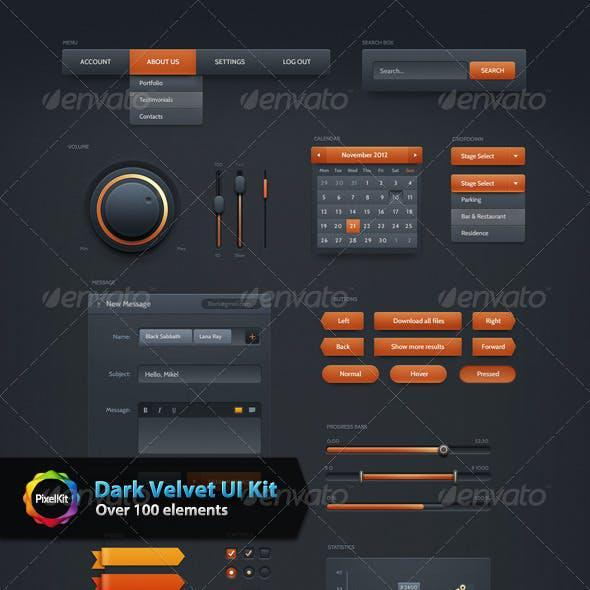button: (265, 50, 333, 79), (197, 49, 264, 75), (130, 50, 197, 75), (376, 312, 462, 331), (65, 50, 130, 75), (452, 225, 525, 245), (373, 339, 462, 355), (329, 147, 410, 164), (131, 107, 202, 125), (452, 194, 527, 211), (130, 92, 204, 107), (322, 366, 380, 385), (392, 365, 447, 384), (319, 337, 365, 359), (460, 367, 516, 385), (453, 210, 526, 223), (470, 62, 517, 82), (131, 78, 203, 91), (473, 312, 517, 332), (320, 314, 366, 332), (474, 340, 517, 357)
checkbox: (244, 548, 256, 559), (261, 549, 272, 560), (226, 549, 238, 559)
dropdown: (452, 147, 525, 167), (452, 175, 527, 192)
input: (139, 327, 263, 350), (140, 366, 262, 385), (375, 60, 467, 81)
label: (104, 406, 136, 420), (106, 371, 137, 381), (109, 334, 136, 342)
radio: (226, 567, 239, 579), (245, 567, 256, 579), (260, 568, 271, 579)
slider: (320, 462, 500, 487), (325, 435, 494, 458), (325, 495, 497, 517), (211, 162, 230, 262), (233, 159, 248, 263), (260, 165, 273, 252)
